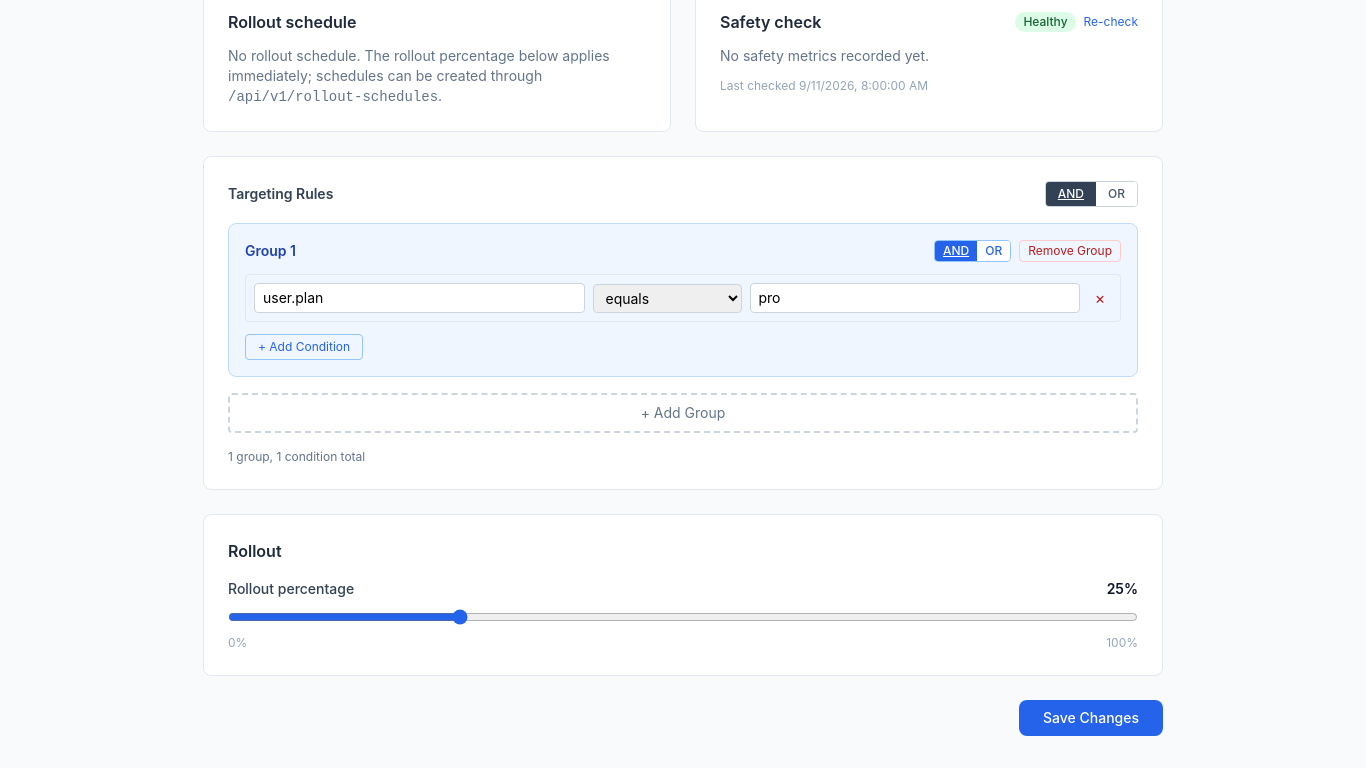
it: a save that moves only the rollout › sends no targeting_rules: editable rules with builder ids and no logical operator
(page scrolled)
Set the slider with test id "rollout-percentage" to "60": (772, 617) [228,609,1138,625]
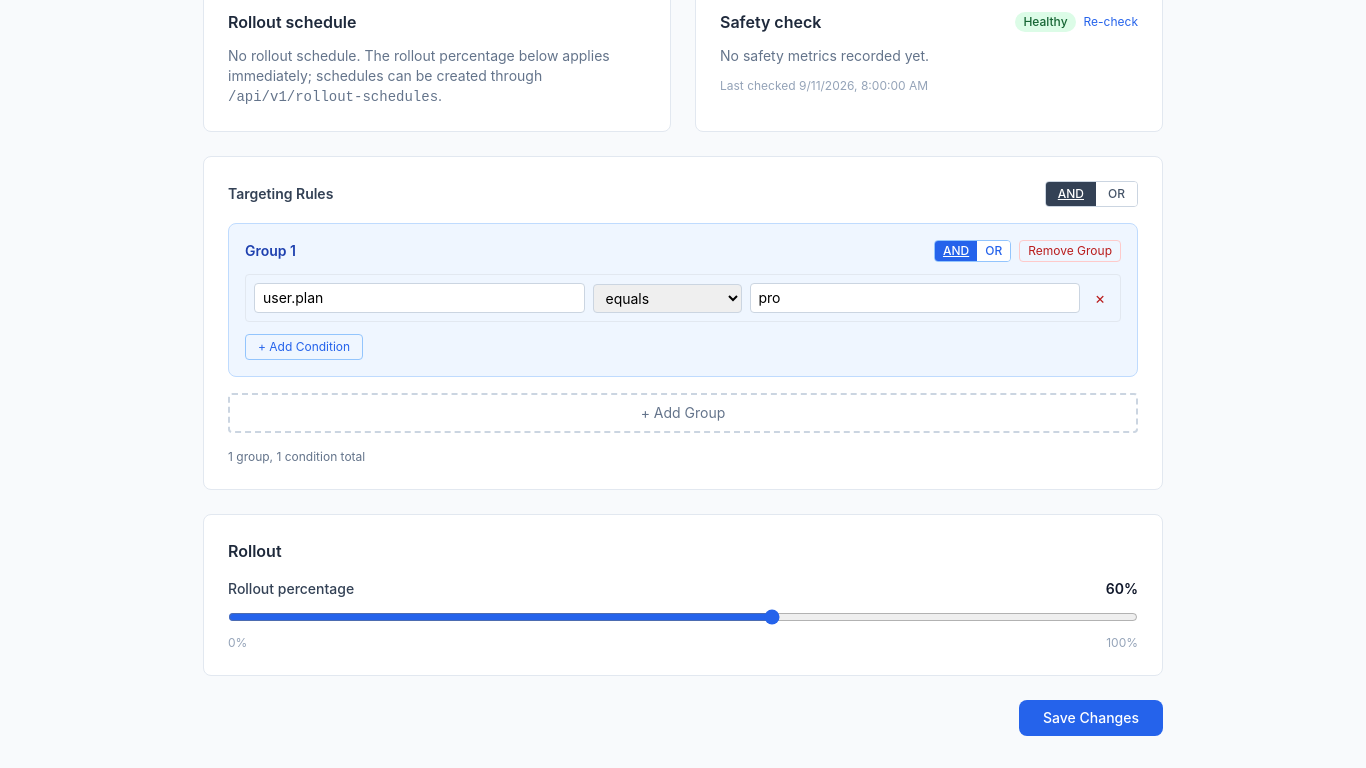
Click the button with test id "save-flag": (1091, 718) [1019,700,1163,736]
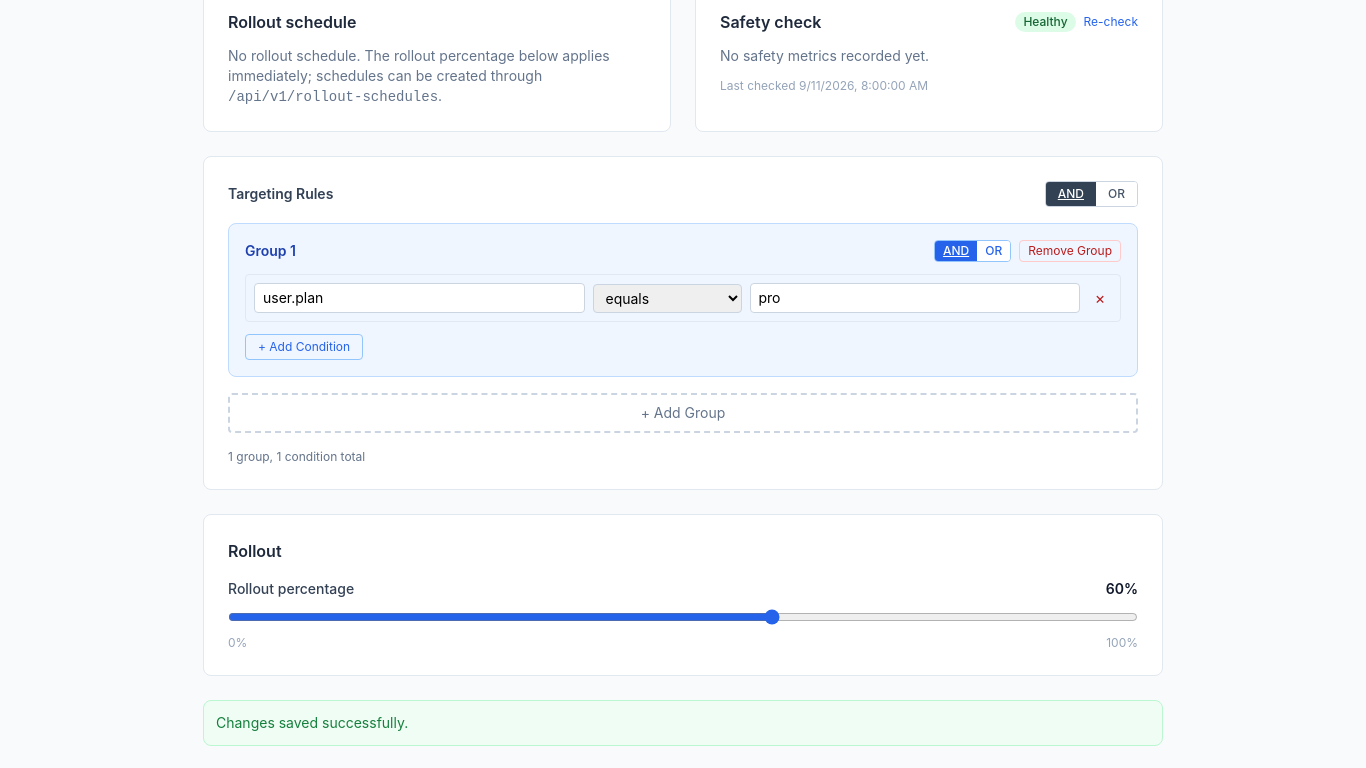
Check: the message "Changes saved successfully." is shown, box [203,700,1163,746]
